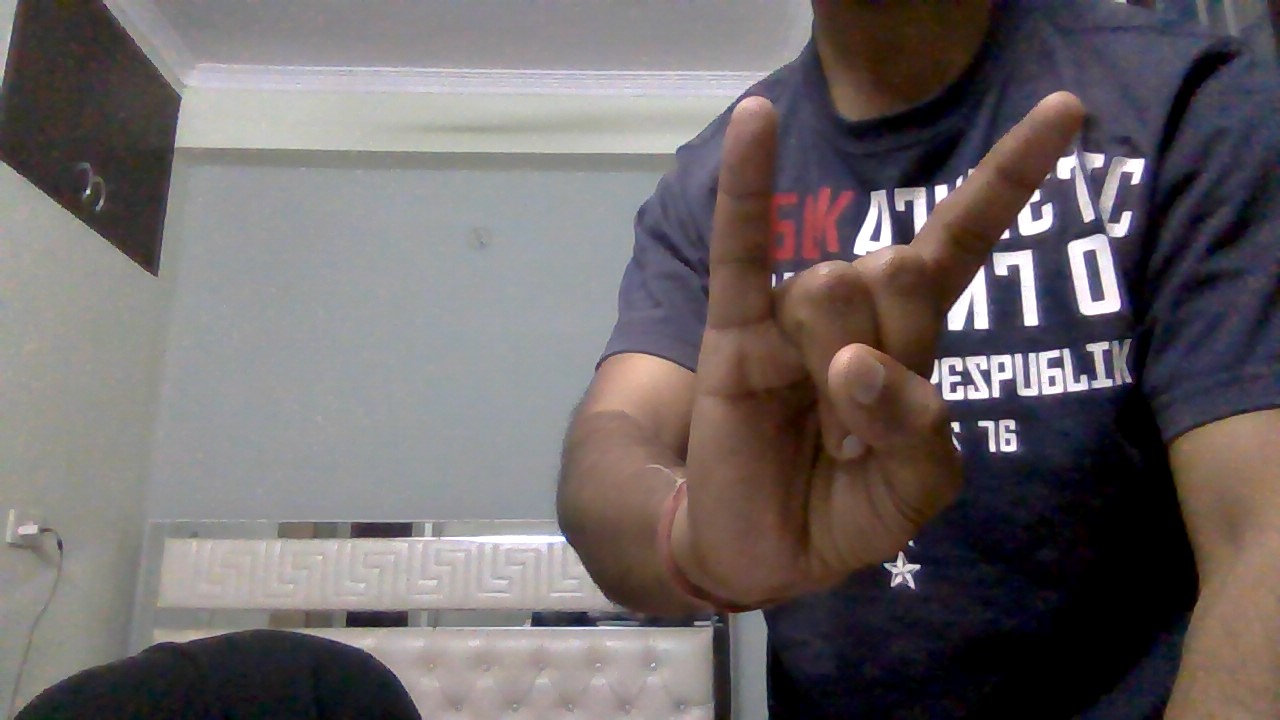Select All: (671, 79, 1103, 606)
